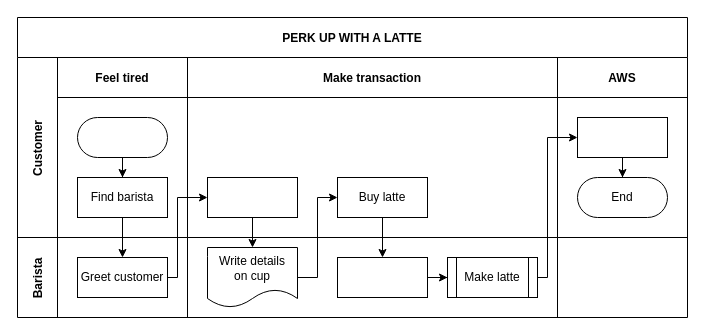
This 705x335 diagram has some shape labels left out. The centre of each missing label's shape, as x and y in pixels:
Accept payment: point (382, 277)
Drink latte: point (622, 137)
Request latte: point (252, 197)
Start: point (122, 137)
